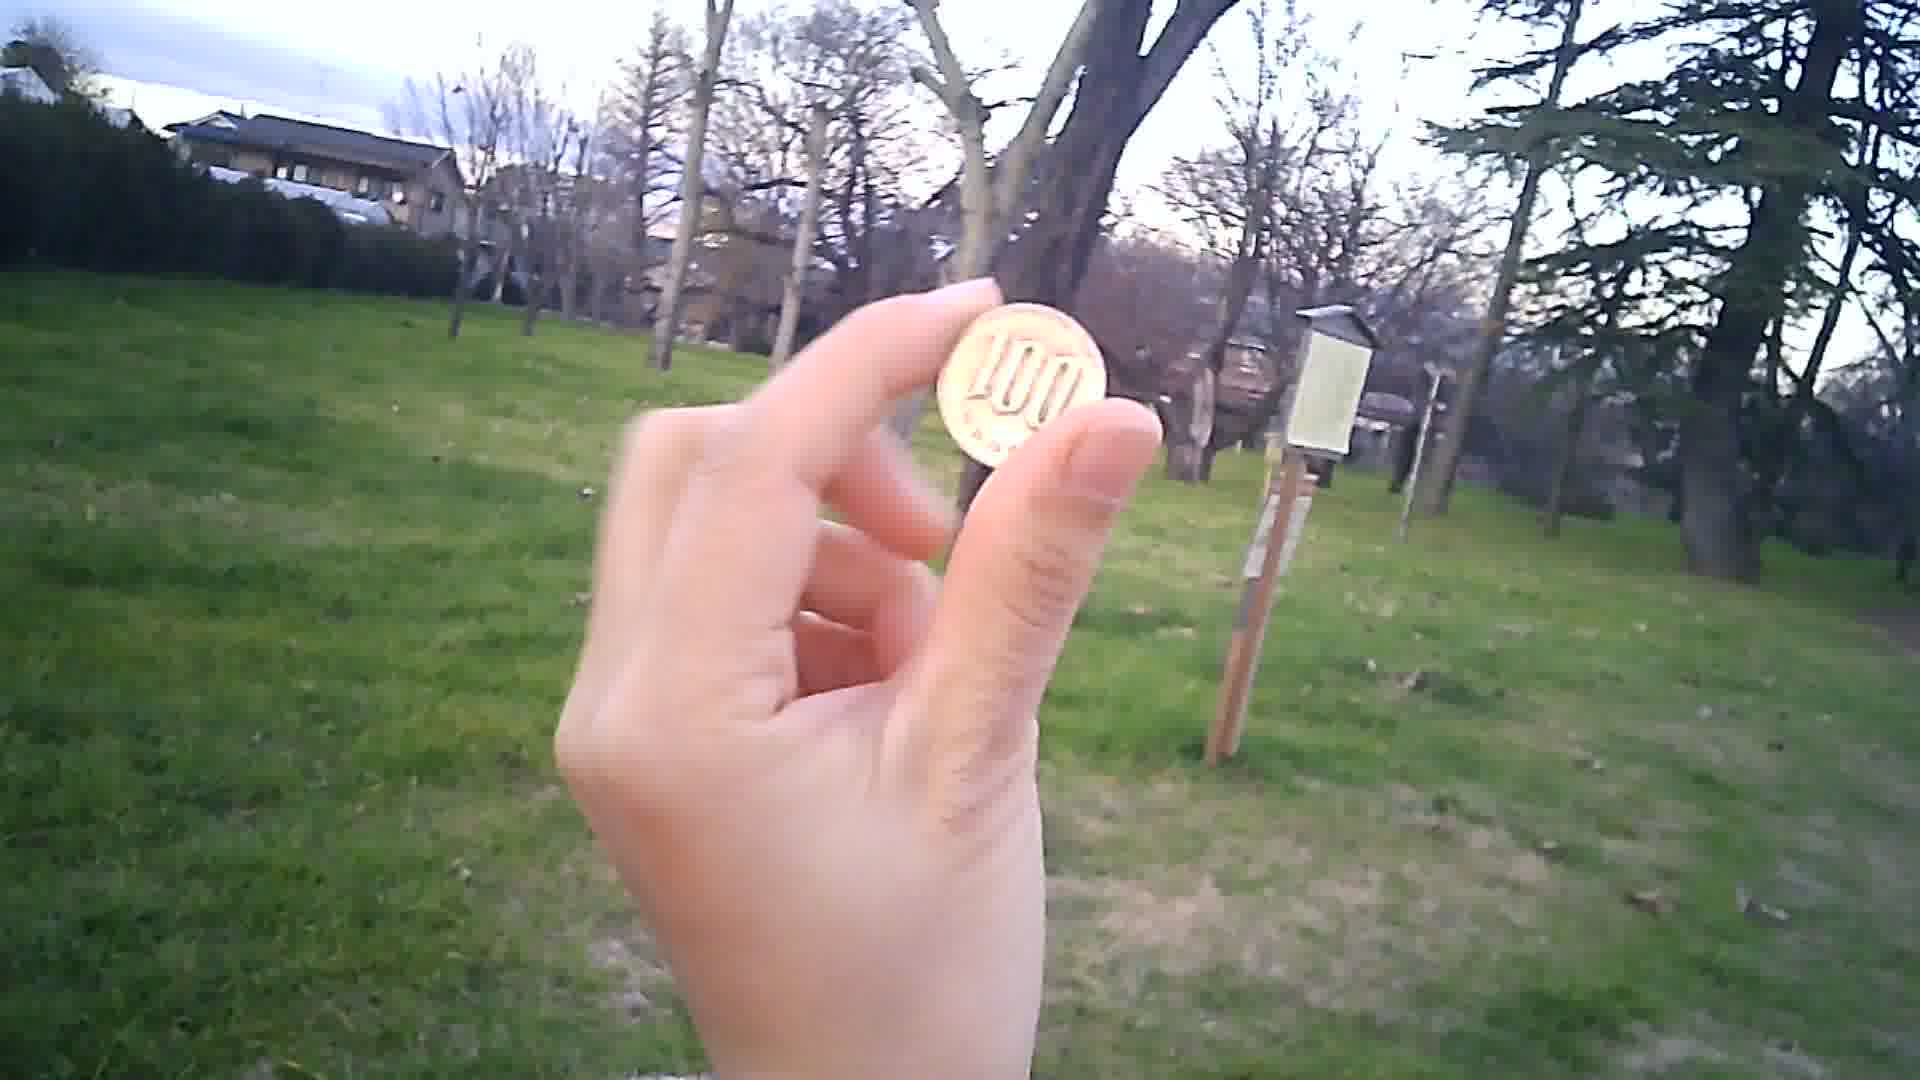100 Yen: (938, 297, 1105, 477)
